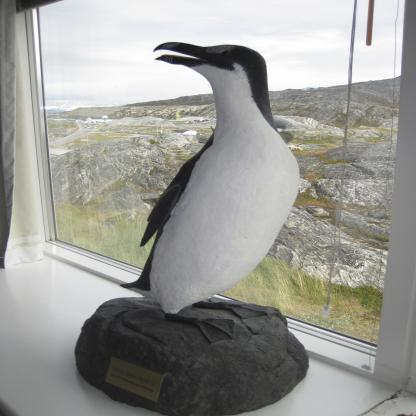Penguin: (107, 25, 329, 334)
